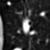node: (22, 16, 31, 35), (39, 11, 47, 17), (12, 46, 22, 50), (29, 30, 36, 35), (6, 1, 11, 6), (17, 29, 21, 35)
